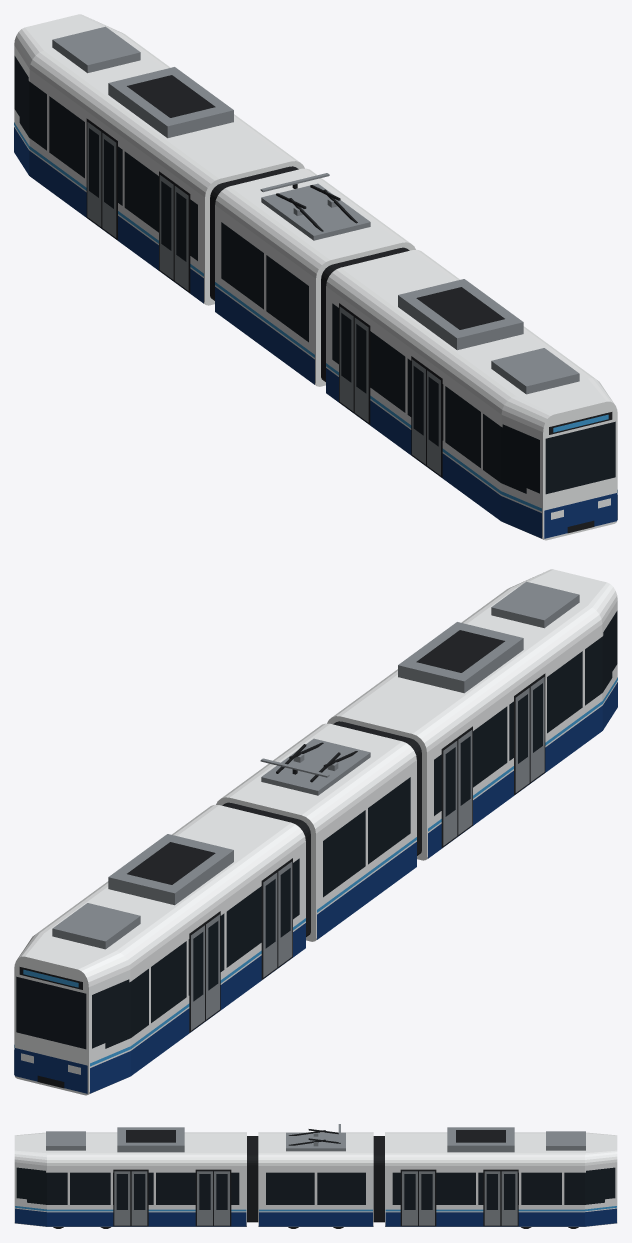
File: atlanta-streetcar.glb
The picture shows the model from 3 angles, top to bottom: view 1: azimuth 30°, elevation 25°; view 2: azimuth 150°, elevation 25°; view 3: azimuth 270°, elevation 25°; orthographic projection. The views are drawn at different scales.
Parts seen in each view (by area): view 1: Atlanta_Streetcar; view 2: Atlanta_Streetcar; view 3: Atlanta_Streetcar.
Boxes of the visible parts, box(x1,y1,x2,y2) form: Atlanta_Streetcar: box(14, 14, 617, 540); Atlanta_Streetcar: box(14, 569, 617, 1095); Atlanta_Streetcar: box(14, 1124, 617, 1228).
Size of the model in its own units: 2.75 by 3.83 by 24.16.
